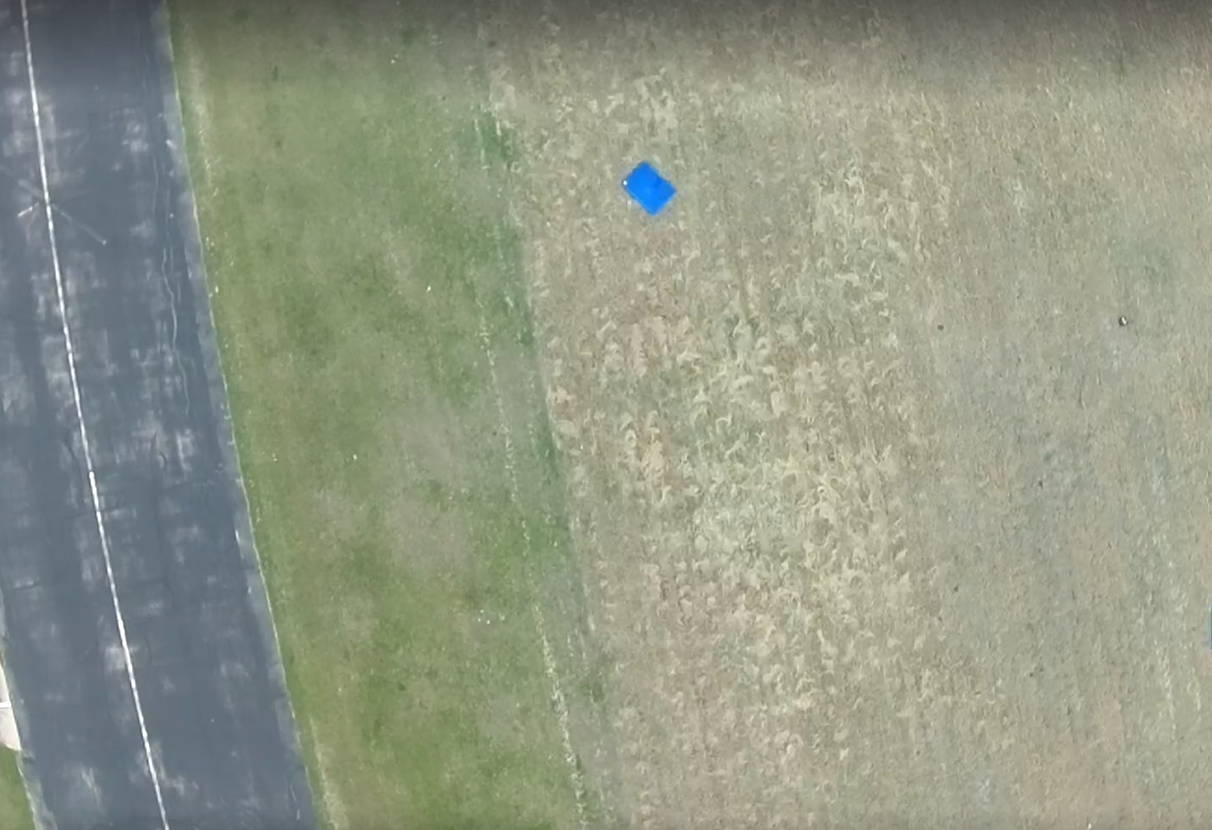TOI: (616, 161, 680, 217)
